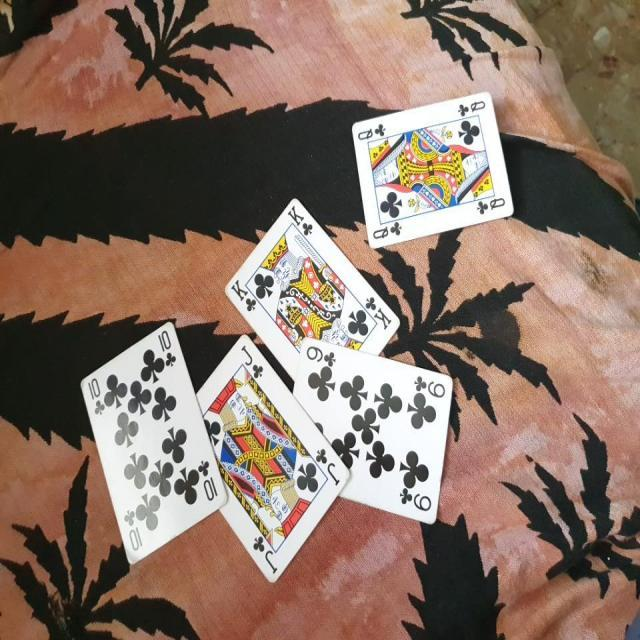10 of clubs: (78, 317, 228, 562)
9 of clubs: (292, 336, 454, 526)
jack of clubs: (196, 332, 350, 585)
king of clubs: (222, 192, 402, 382)
queen of clubs: (350, 85, 518, 247)
